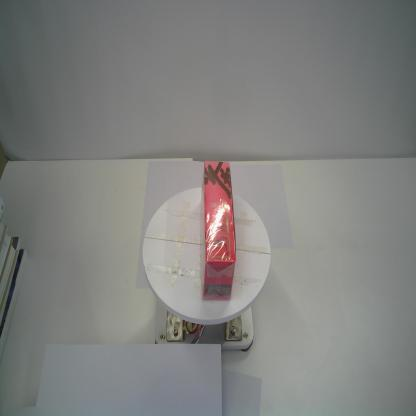Instant Drink: (199, 160, 237, 302)
